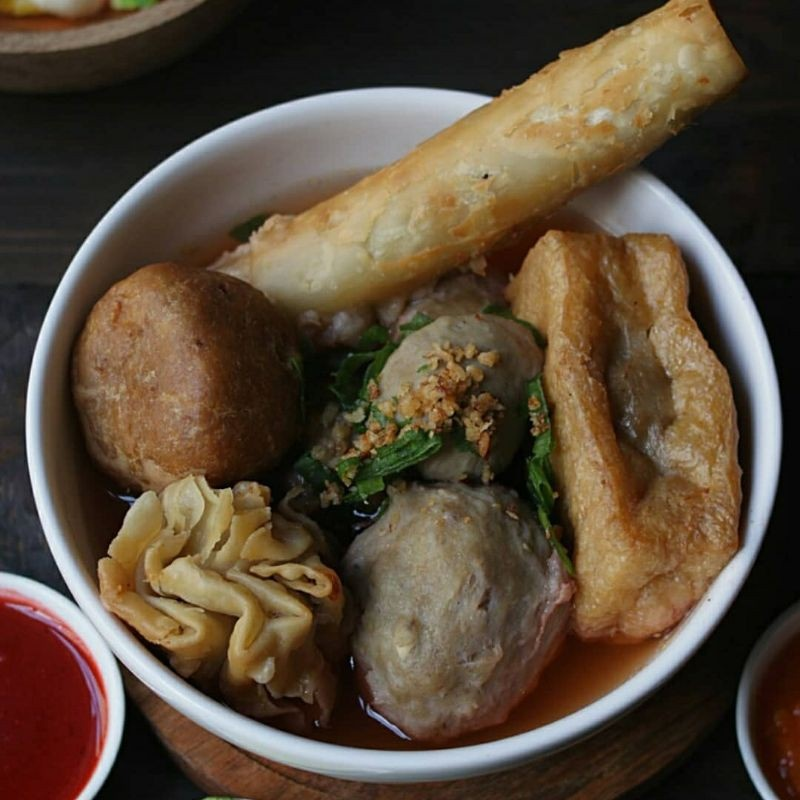bakso_malang: (76, 3, 743, 744)
